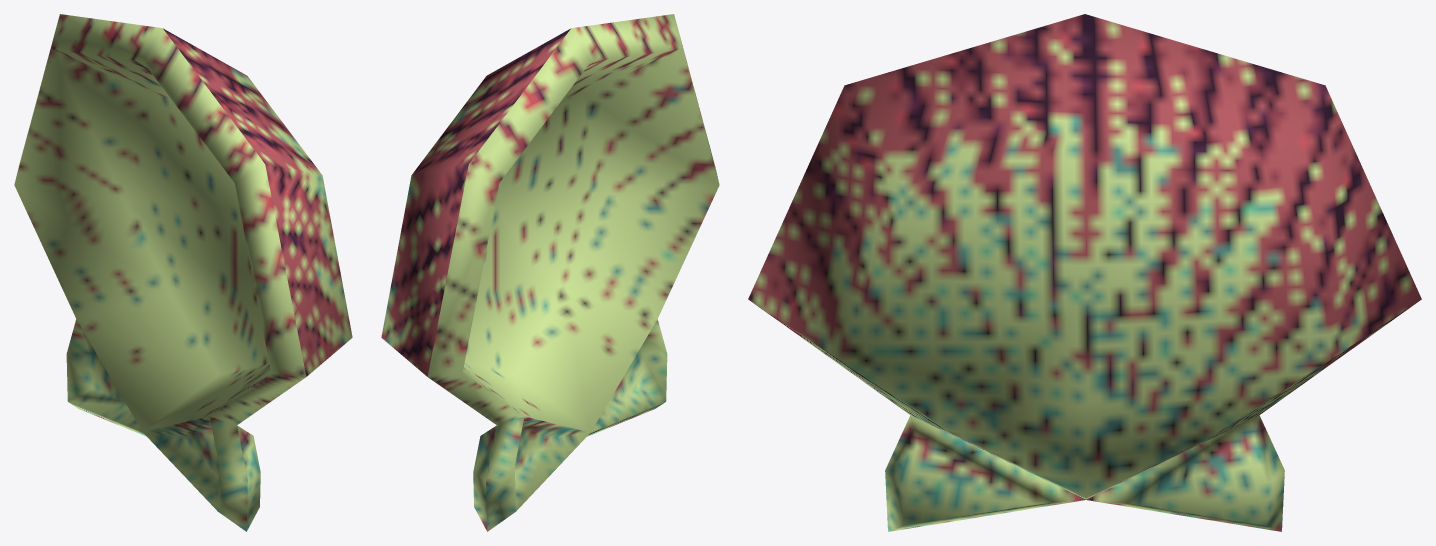
The model's file is clam.fbx.
3 renders of one model, left to right at view 1: azimuth 30°, elevation 25°; view 2: azimuth 150°, elevation 25°; view 3: azimuth 270°, elevation 25°, orthographic. The views are drawn at different scales.
Visible parts, largest first — view 1: clam.003; view 2: clam.003; view 3: clam.003.
Part boxes in pixels (<box>): clam.003: <box>14,14,352,531</box>; clam.003: <box>381,14,719,531</box>; clam.003: <box>748,14,1421,531</box>.
Bounding box in the file's own units: 72.69 × 246 × 290.
1 material, 1 textured.
